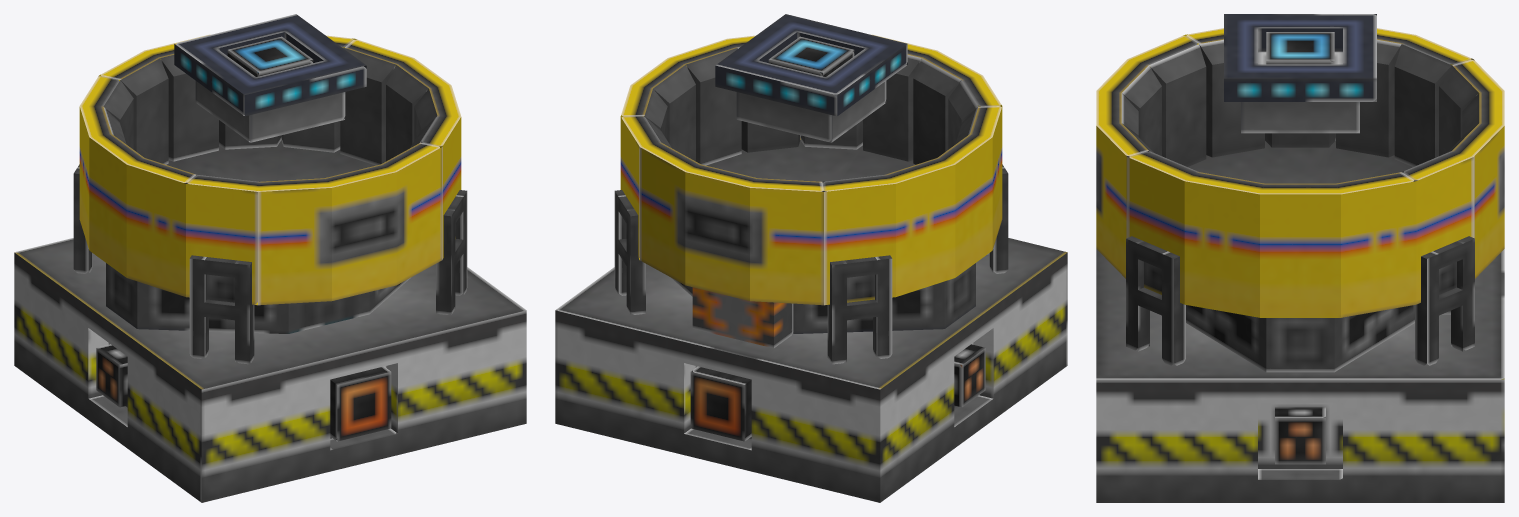
The model's file is crusher.obj.
The picture shows the model from 3 angles, left to right: view 1: azimuth 30°, elevation 25°; view 2: azimuth 150°, elevation 25°; view 3: azimuth 270°, elevation 25°; orthographic projection. The views are drawn at different scales.
Parts seen in each view (by area): view 1: cube.059_cube.base_cube.059, cube.021_柱体, cube.034, cube.001_立方体.003, cube.023; view 2: cube.059_cube.base_cube.059, cube.021_柱体, cube.034, cube.023, cube.001_立方体.003; view 3: cube.021_柱体, cube.059_cube.base_cube.059, cube.034, cube.001_立方体.003, cube.023.
Part boxes in pixels (x1,y1,x2,y2): cube.059_cube.base_cube.059: (14, 238, 526, 502); cube.021_柱体: (79, 34, 461, 305); cube.034: (174, 14, 366, 142); cube.001_立方体.003: (73, 164, 467, 364); cube.023: (106, 263, 410, 333); cube.059_cube.base_cube.059: (555, 238, 1067, 502); cube.021_柱体: (620, 34, 1002, 305); cube.034: (715, 14, 907, 142); cube.023: (671, 263, 975, 348); cube.001_立方体.003: (614, 164, 1008, 364); cube.021_柱体: (1096, 28, 1504, 317); cube.059_cube.base_cube.059: (1096, 249, 1504, 502); cube.034: (1224, 14, 1376, 133); cube.001_立方体.003: (1126, 236, 1474, 365); cube.023: (1186, 305, 1450, 372).
Bounding box in the file's own units: 3 × 3 × 3.
